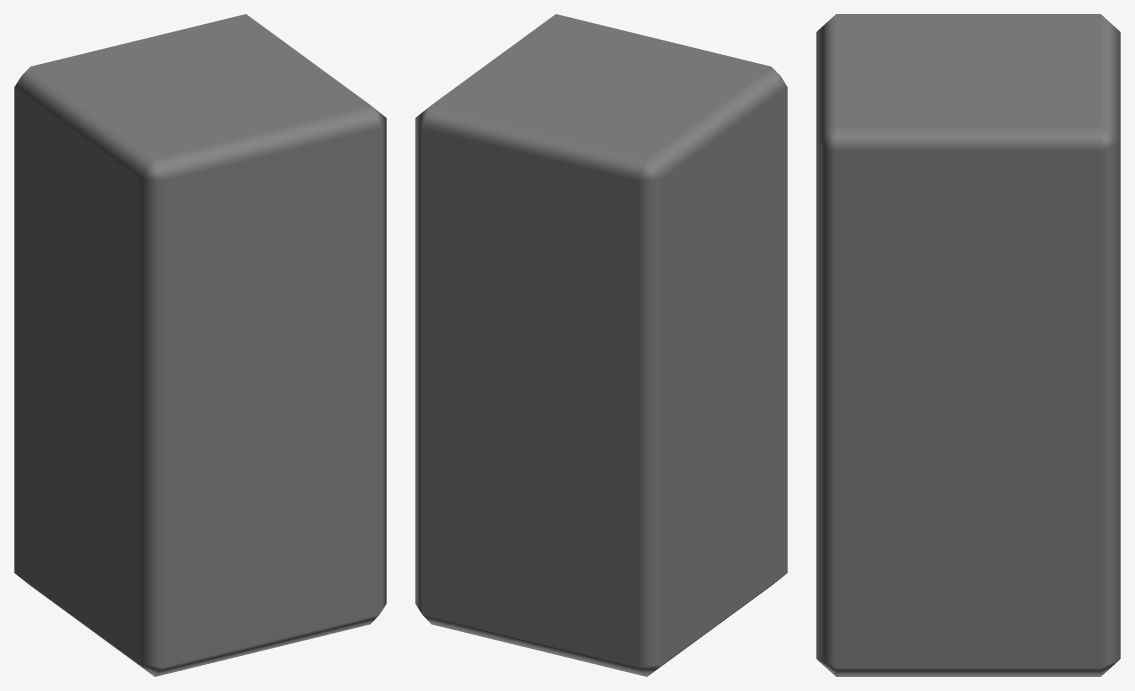
The model's file is R6_RightLeg.obj.
3 renders of one model, left to right at view 1: azimuth 30°, elevation 25°; view 2: azimuth 150°, elevation 25°; view 3: azimuth 270°, elevation 25°, orthographic. The views are drawn at different scales.
Visible parts, largest first — view 1: RightLeg; view 2: RightLeg; view 3: RightLeg.
Boxes of the visible parts, bbox=[...] form: RightLeg: bbox=[14, 14, 386, 676]; RightLeg: bbox=[415, 14, 787, 676]; RightLeg: bbox=[816, 14, 1120, 676].
Size of the model in its own units: 1 by 2 by 1.
1 material, 1 textured.
